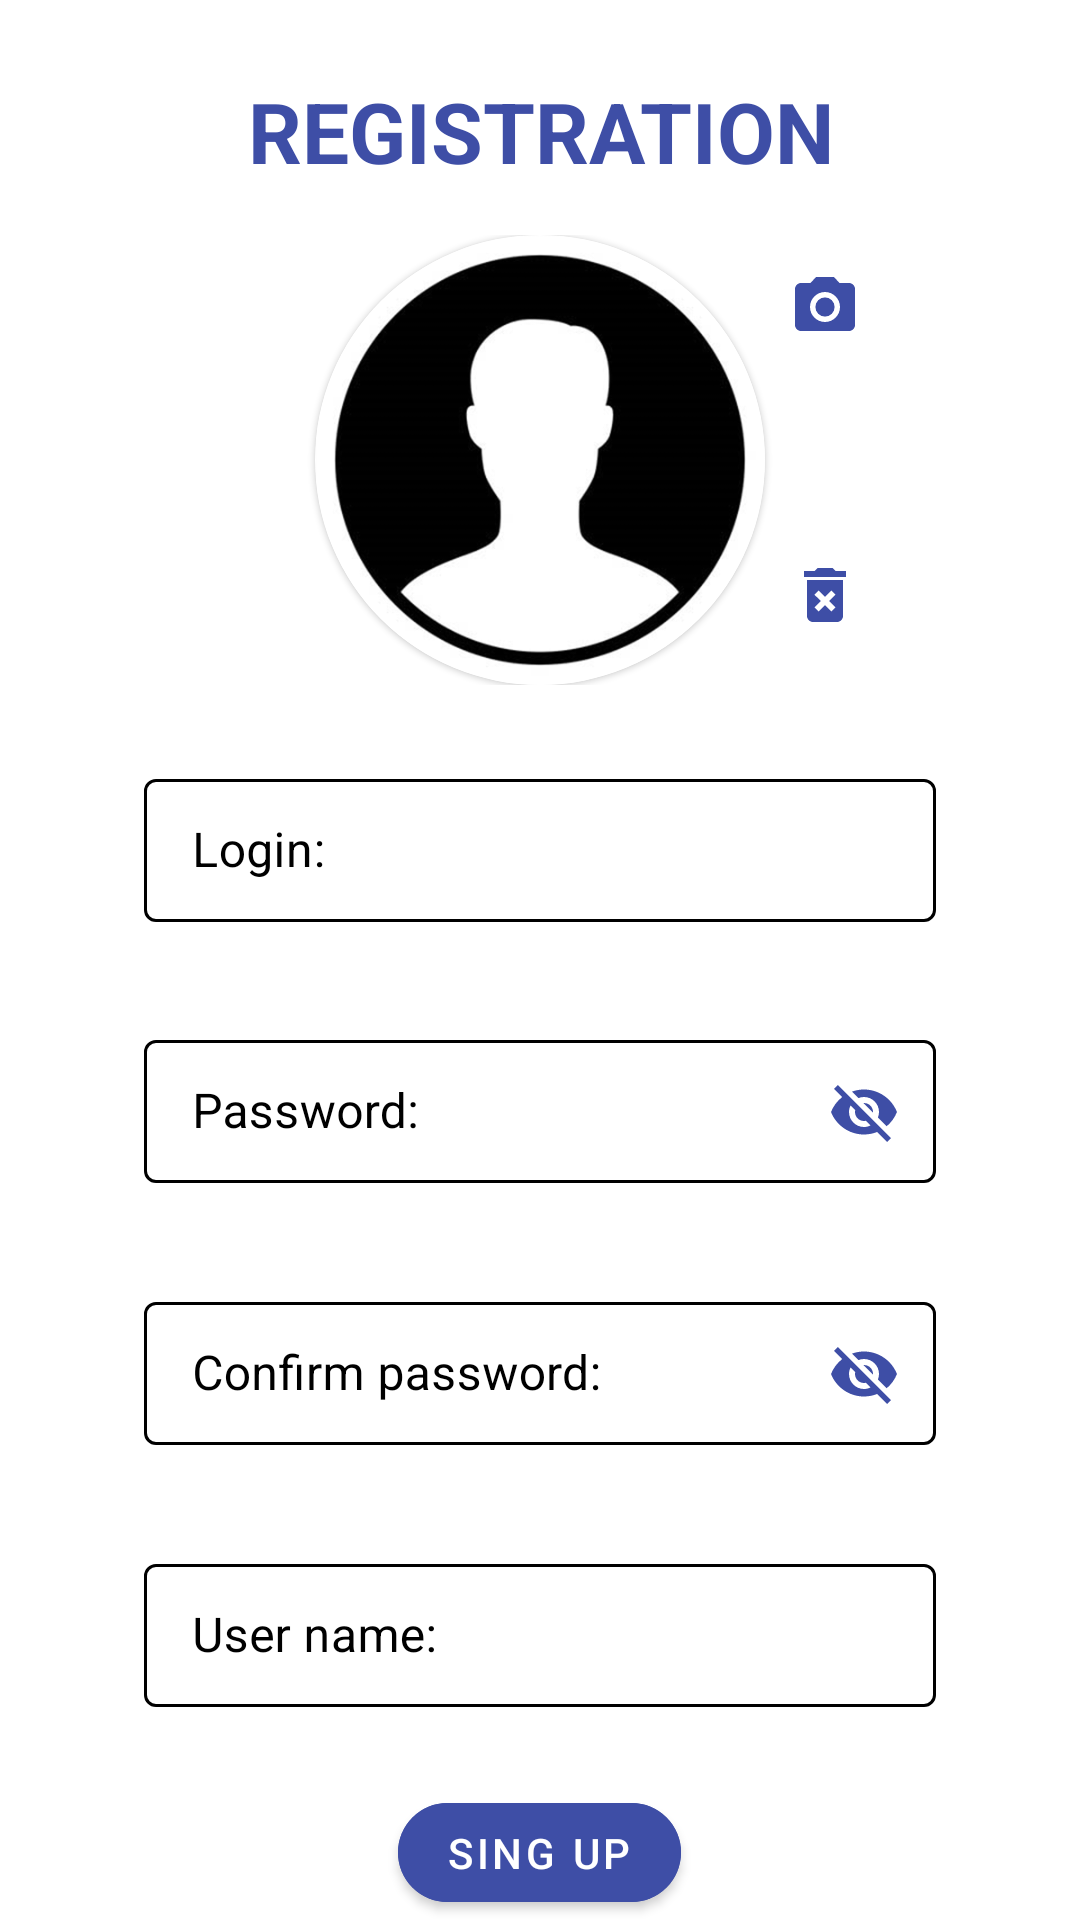

Named icons in this screenshot (1080x1920) and their centers, (x=x, y=y):
delete: (x=825, y=595)
take photo: (x=825, y=304)
